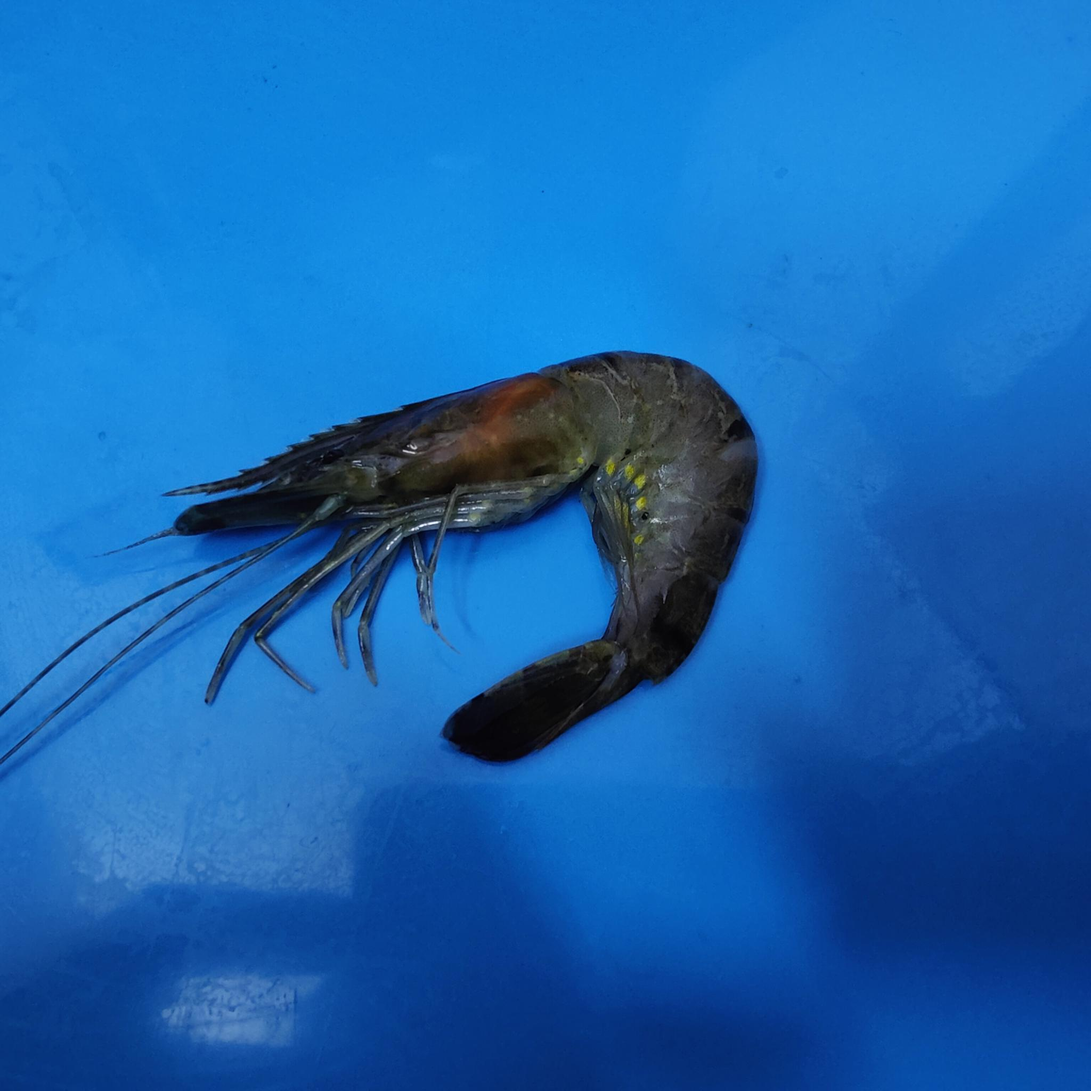whitespot: (353, 384, 632, 480)
